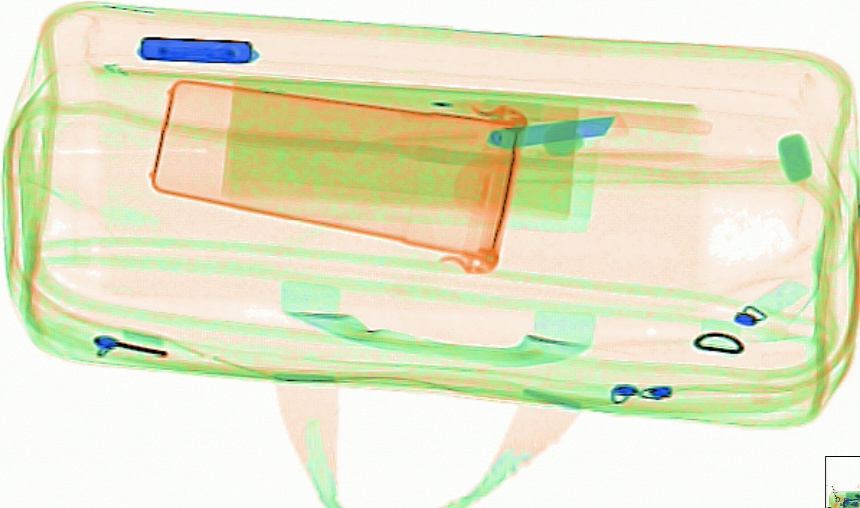knife: (139, 35, 256, 64)
